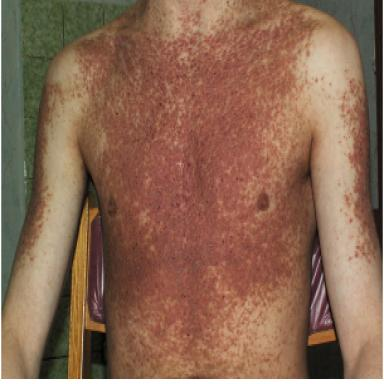Darier_s-Disease: (11, 0, 322, 380), (336, 69, 380, 264)
